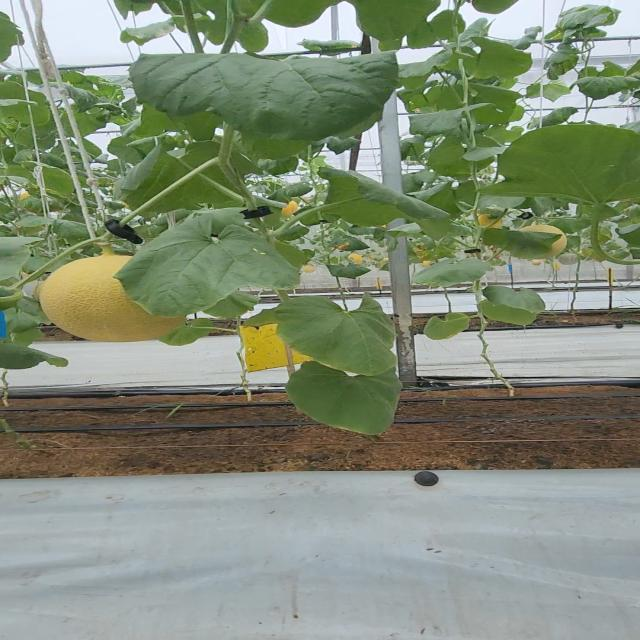Front-melon: (50, 253, 130, 347)
